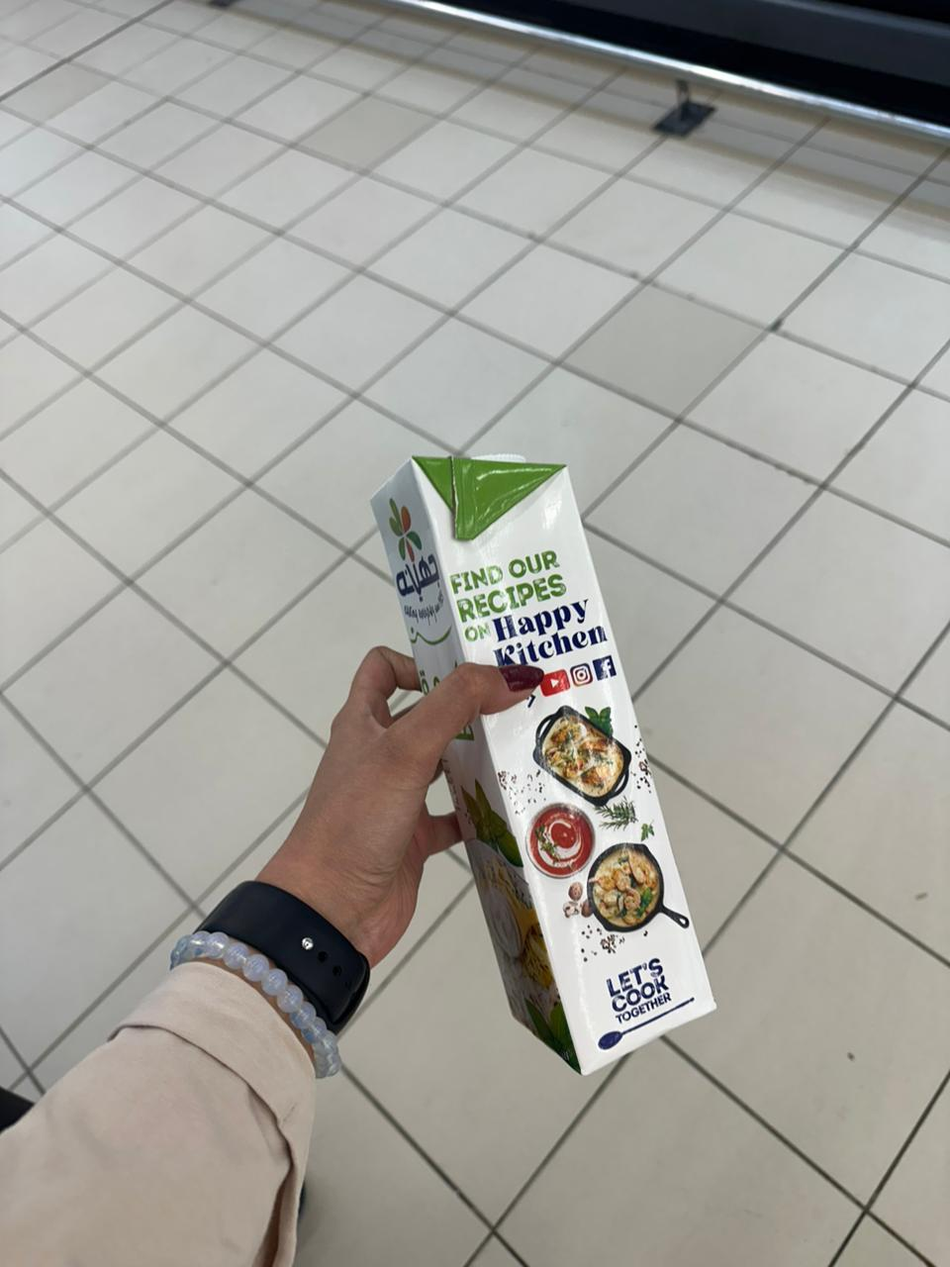cooking_cream: (315, 411, 769, 1086)
